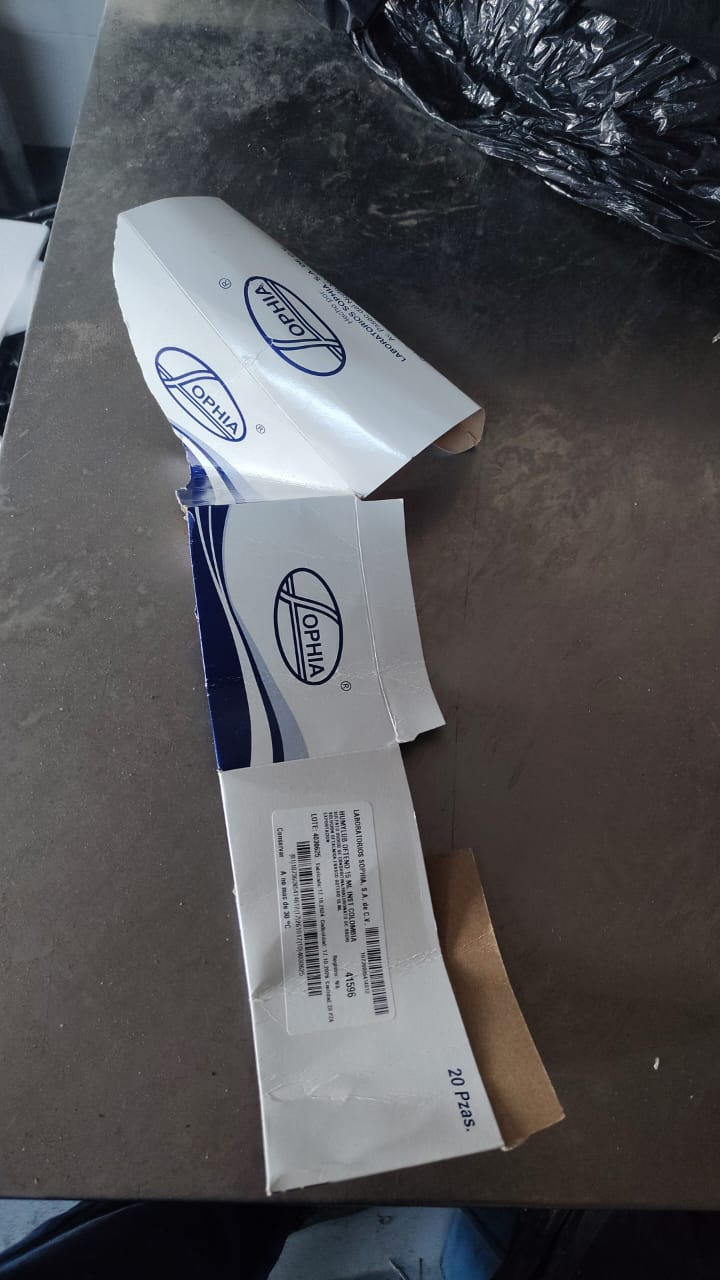Carton: (112, 196, 569, 1196)
